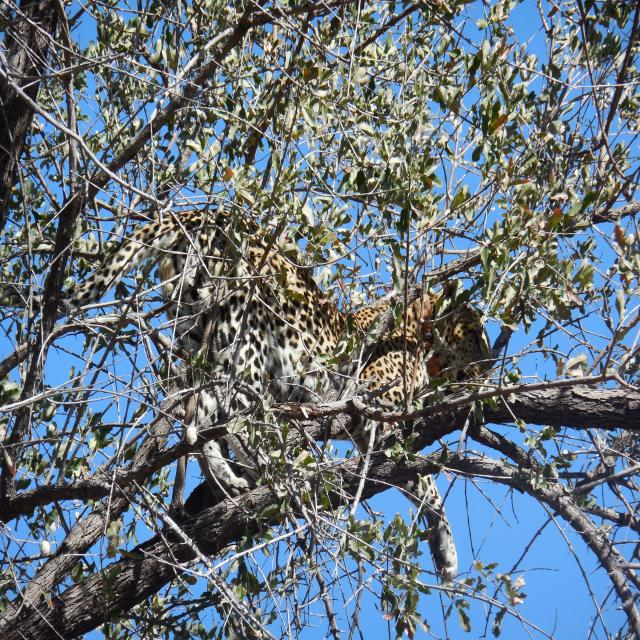Leopard: (4, 212, 481, 574)
